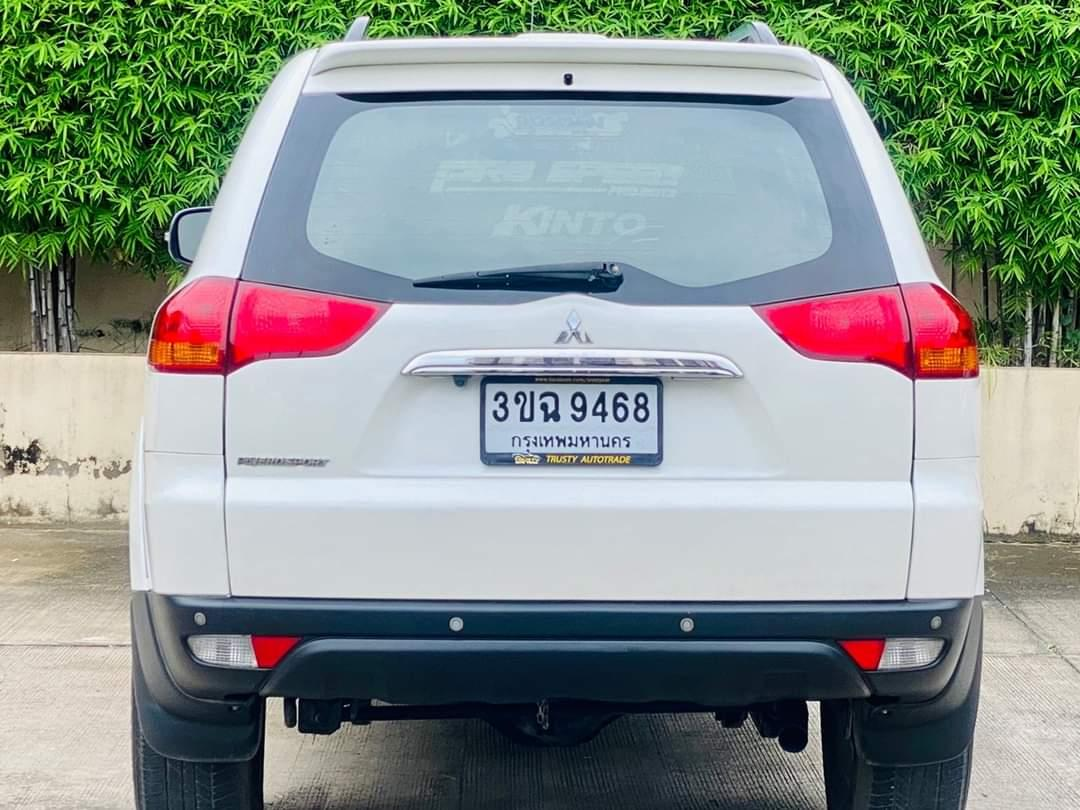license-plate: (478, 374, 667, 470)
